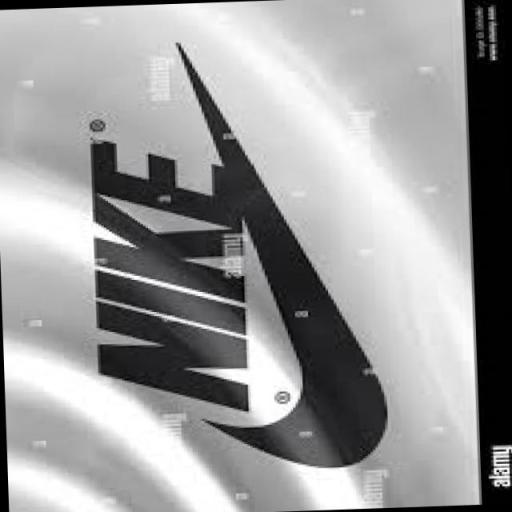Nike: (206, 94, 388, 470), (84, 132, 251, 417)
